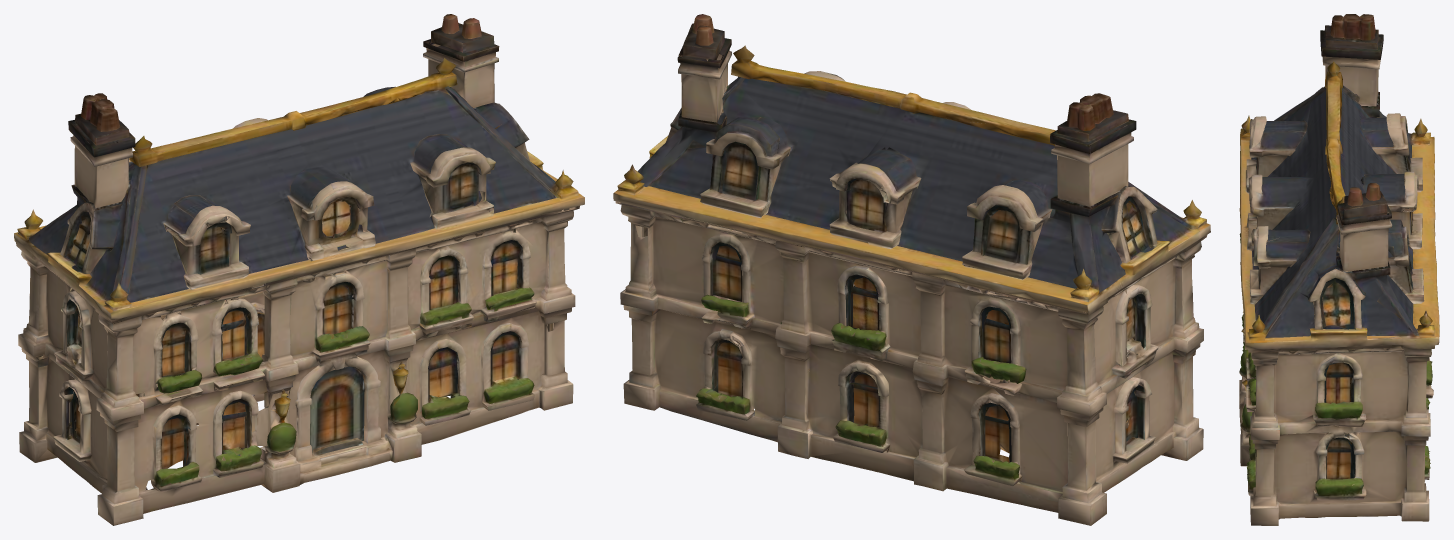
The picture shows the model from 3 angles, left to right: view 1: azimuth 30°, elevation 25°; view 2: azimuth 150°, elevation 25°; view 3: azimuth 270°, elevation 25°; orthographic projection. The views are drawn at different scales.
Parts seen in each view (by area): view 1: classic__finance_2__native_mobile; view 2: classic__finance_2__native_mobile; view 3: classic__finance_2__native_mobile.
Part boxes in pixels (box(x1,y1,x2,y2)): classic__finance_2__native_mobile: box(14, 14, 584, 525); classic__finance_2__native_mobile: box(613, 14, 1210, 525); classic__finance_2__native_mobile: box(1239, 14, 1439, 525).
Size of the model in its own units: 1 by 0.7468 by 0.403.
Materials: 1 (1 with a texture image).
